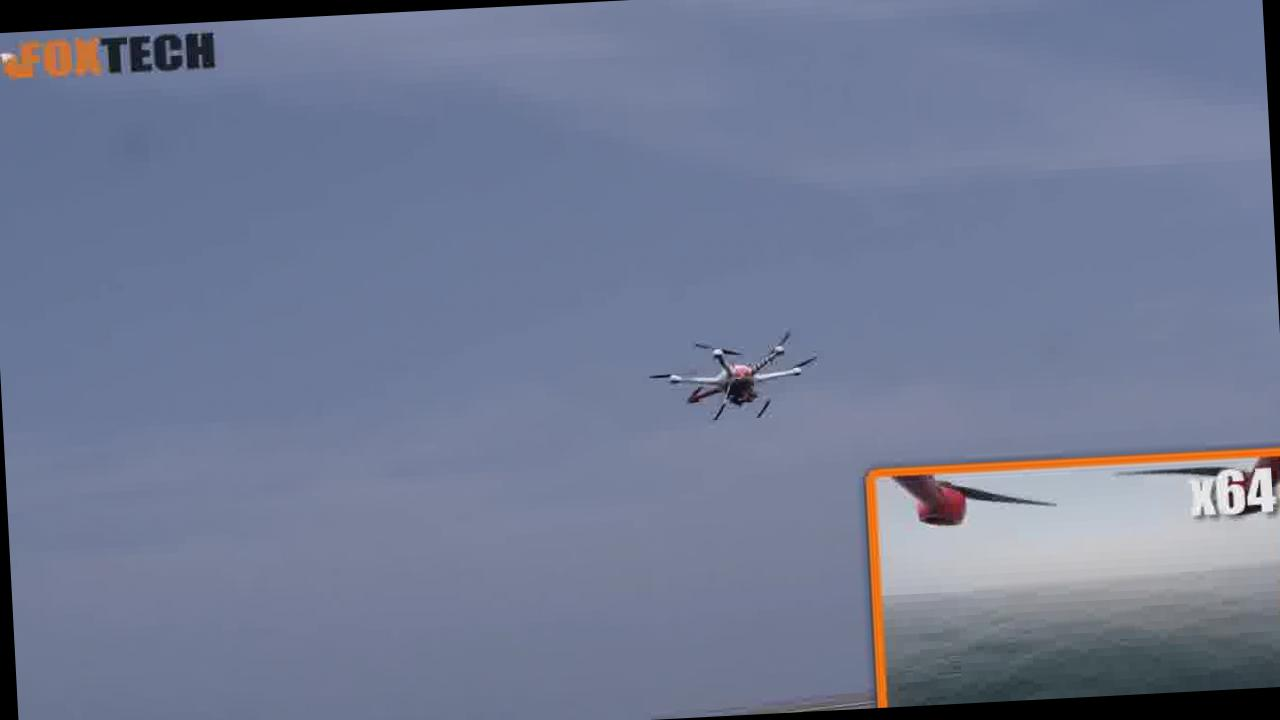drone: (646, 320, 822, 436)
